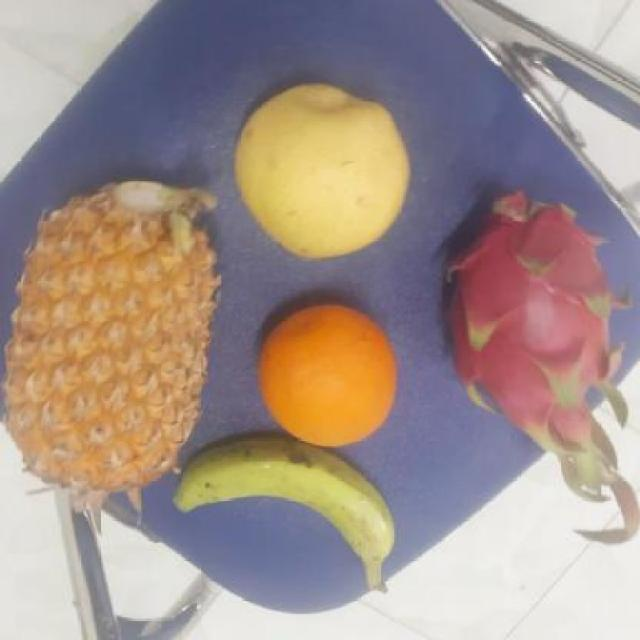banana: (167, 436, 390, 606)
dragon fruit: (428, 189, 627, 449)
oren: (249, 304, 400, 444)
pear: (221, 83, 407, 260)
pineapple: (0, 180, 220, 482)
